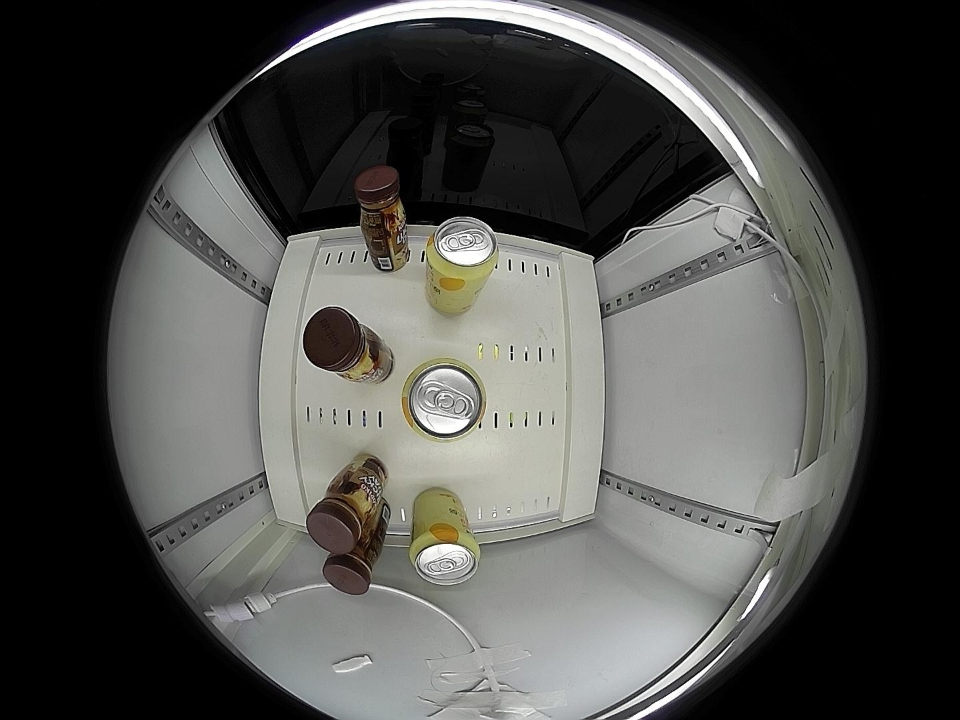lujikafei: (303, 307, 382, 382), (307, 475, 379, 553), (354, 166, 408, 236), (322, 534, 383, 595)
mangguoxiaolao: (400, 357, 488, 443), (426, 216, 499, 284), (409, 527, 481, 586)
